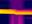Hotspot: (0, 9, 30, 14)
